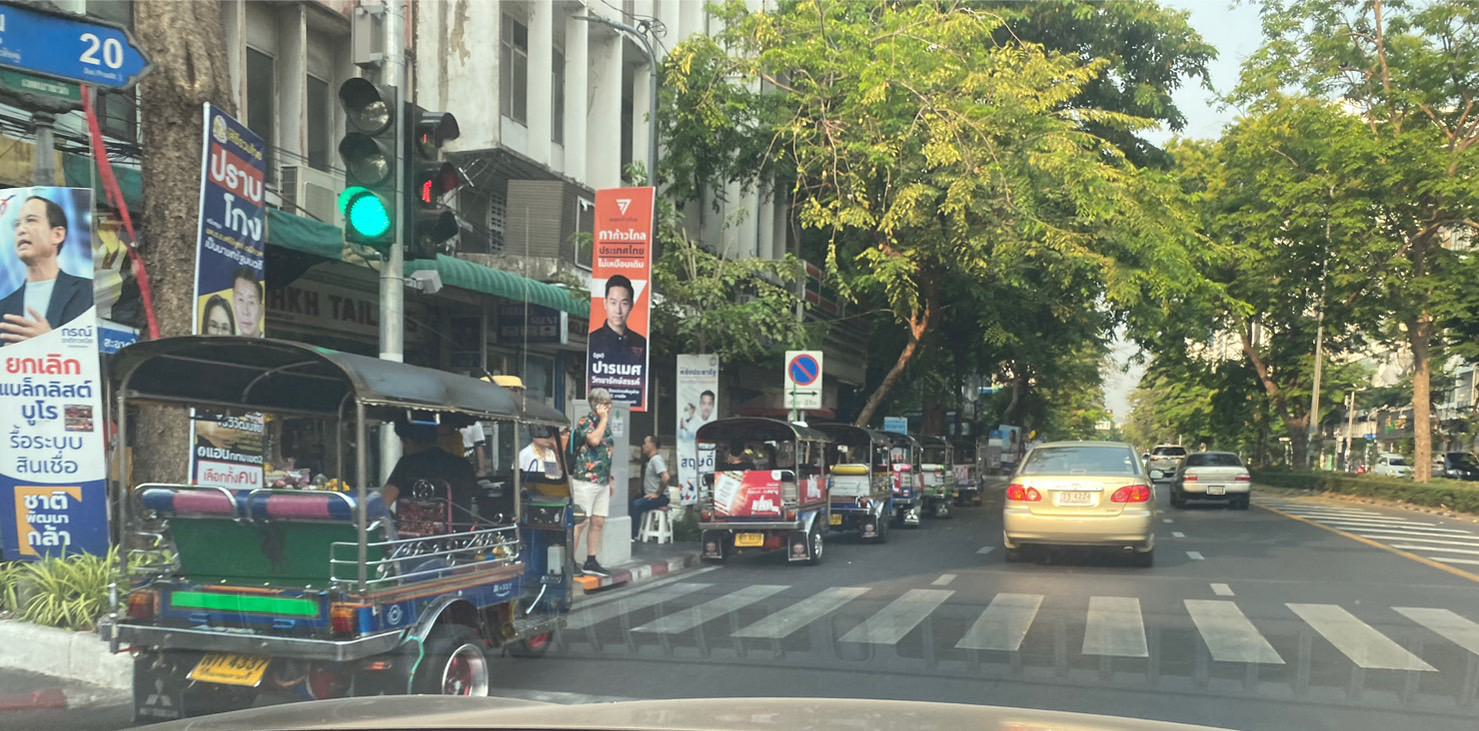Banner: (0, 183, 123, 567), (586, 183, 644, 427)
